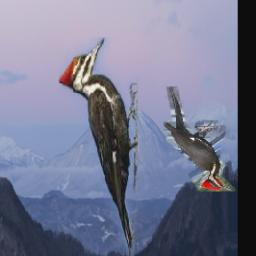Woodpecker: (59, 38, 138, 256), (163, 86, 235, 191)
